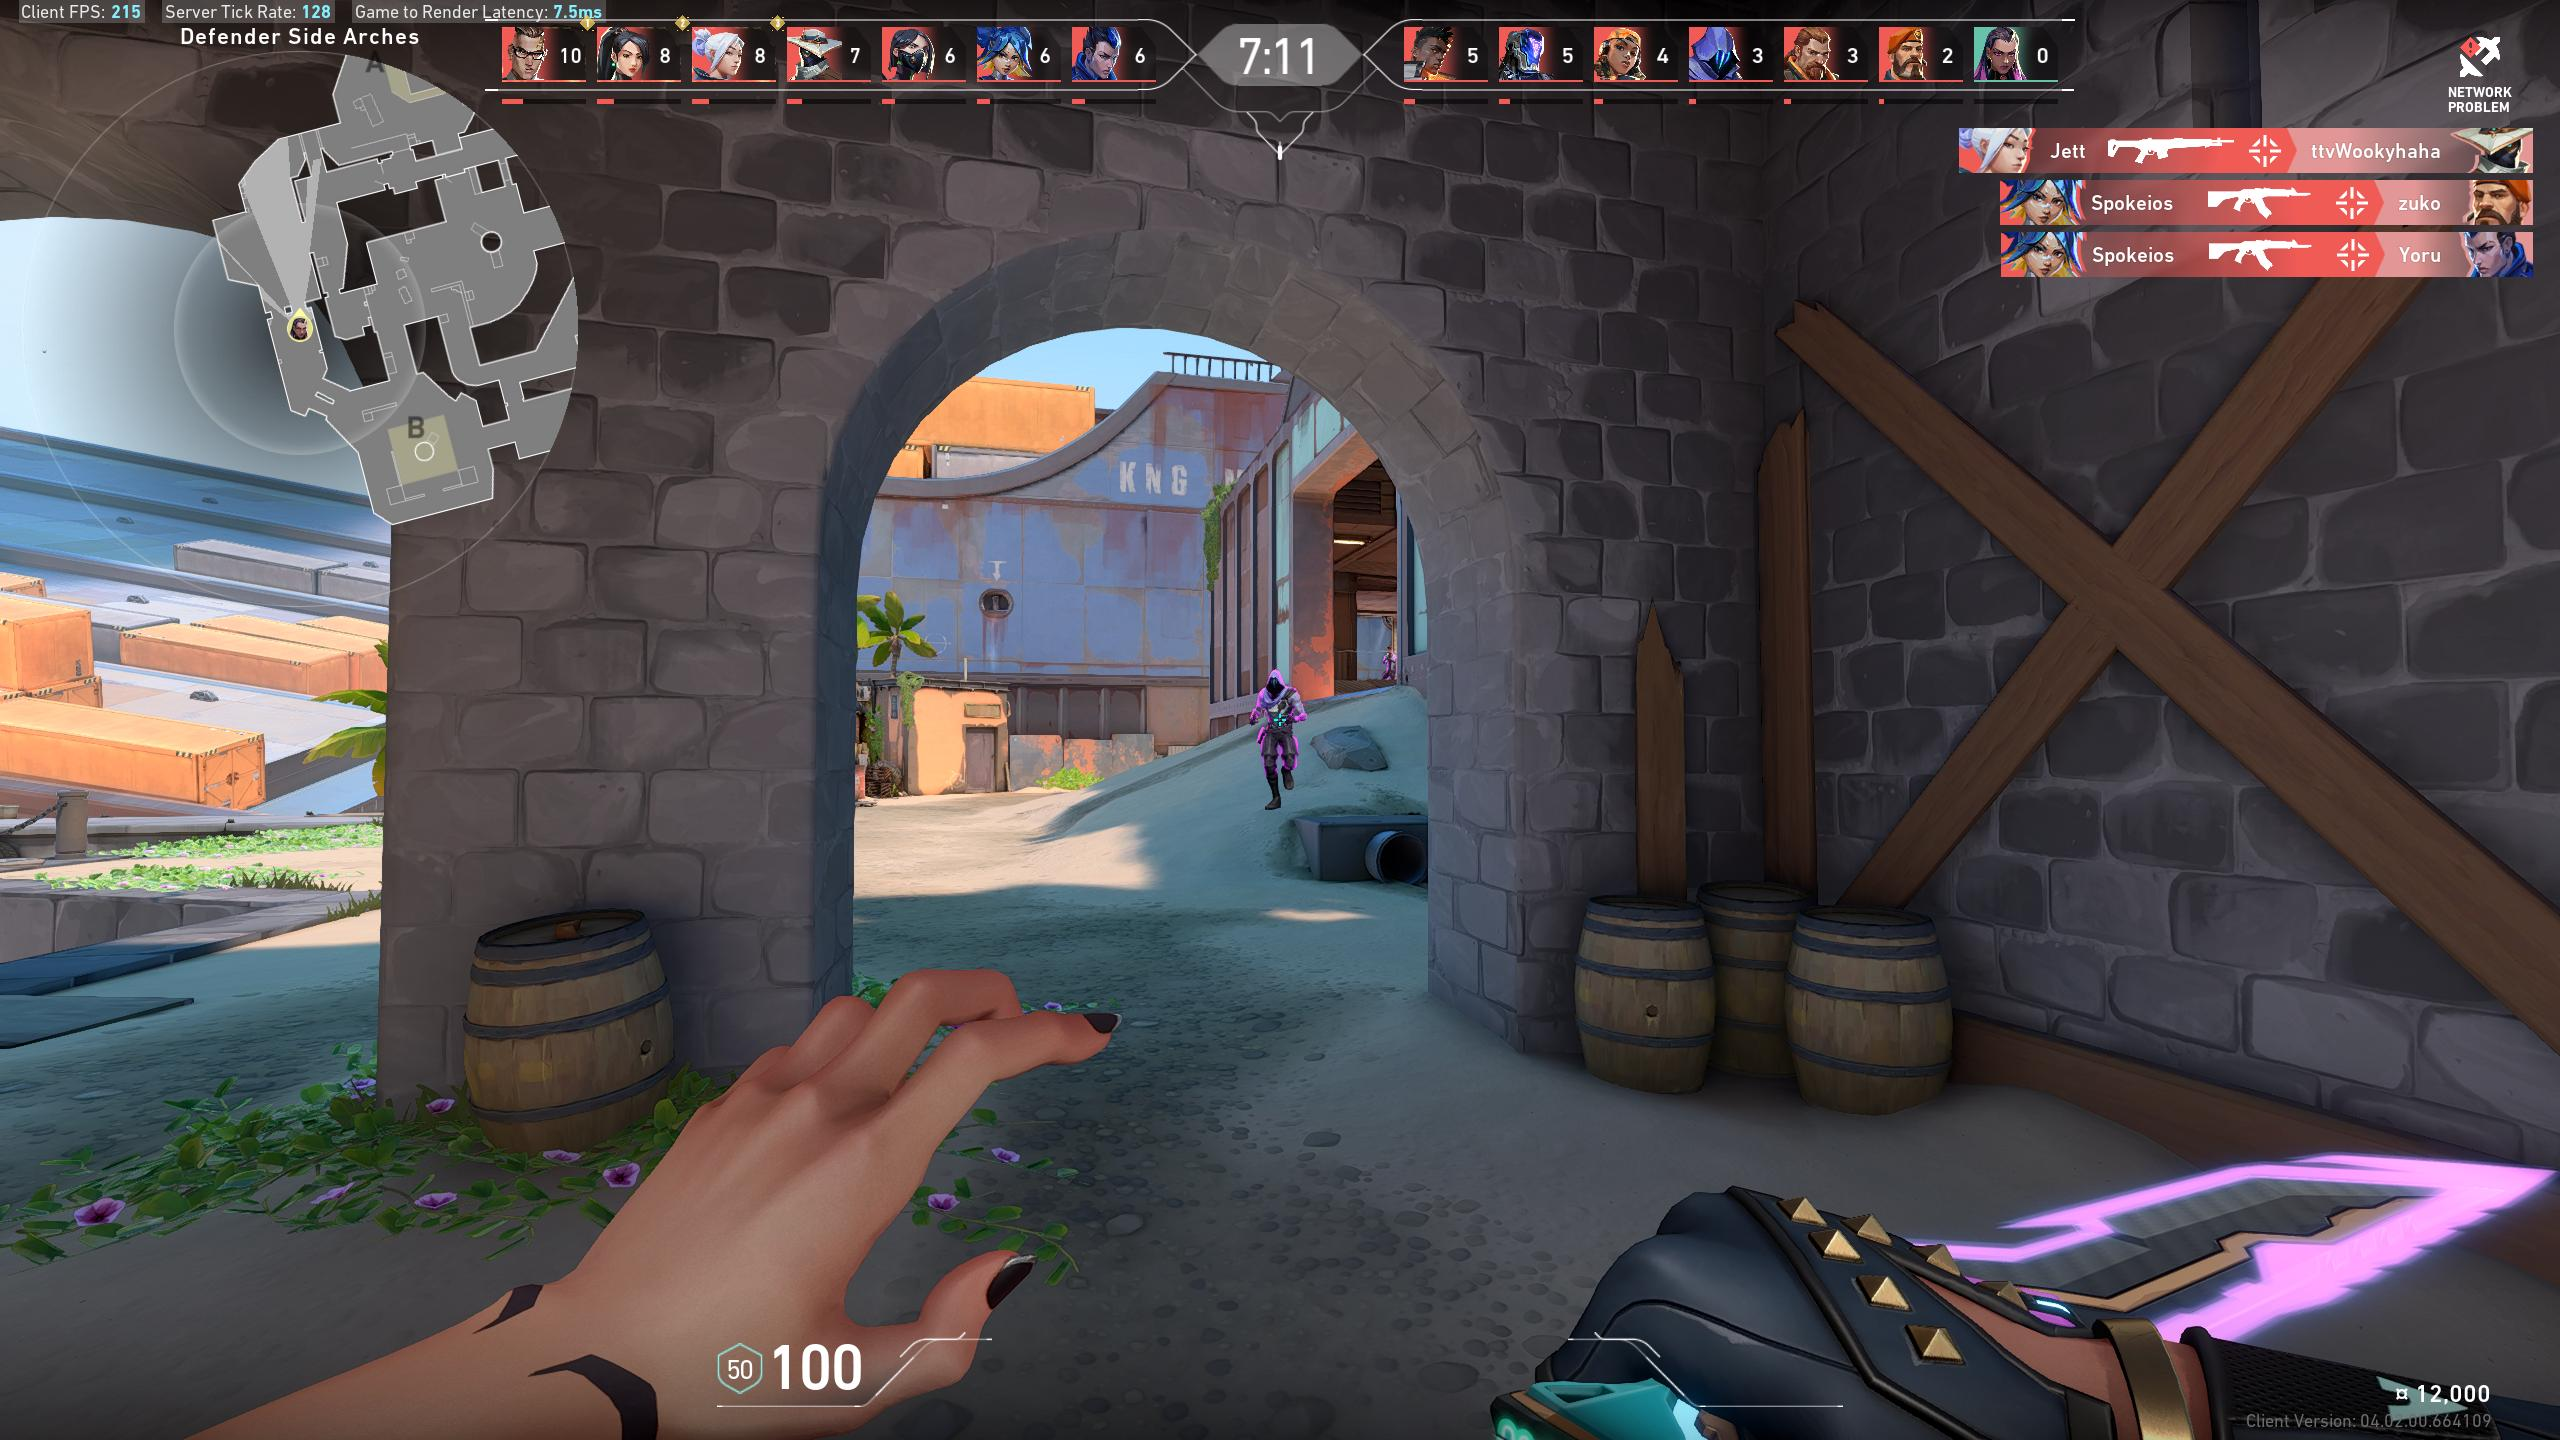enemyBody: (1268, 693, 1291, 726), (1387, 654, 1393, 668)
enemyHead: (1269, 675, 1282, 691), (1387, 649, 1393, 654)
